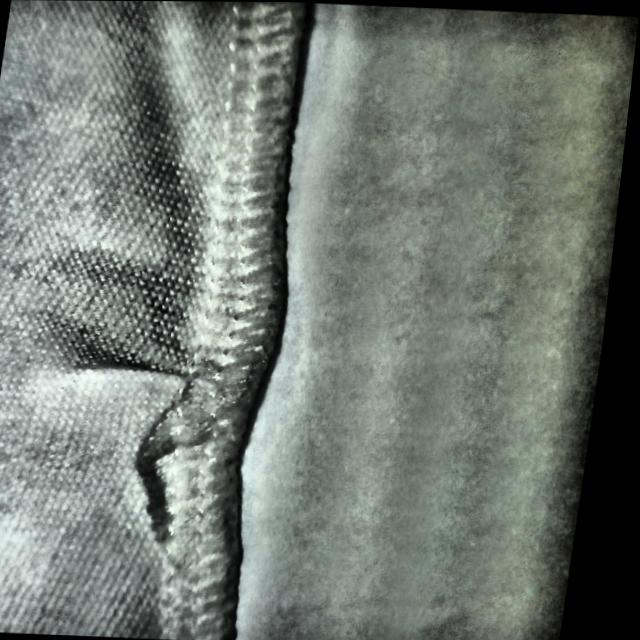seam: (65, 314, 278, 527)
